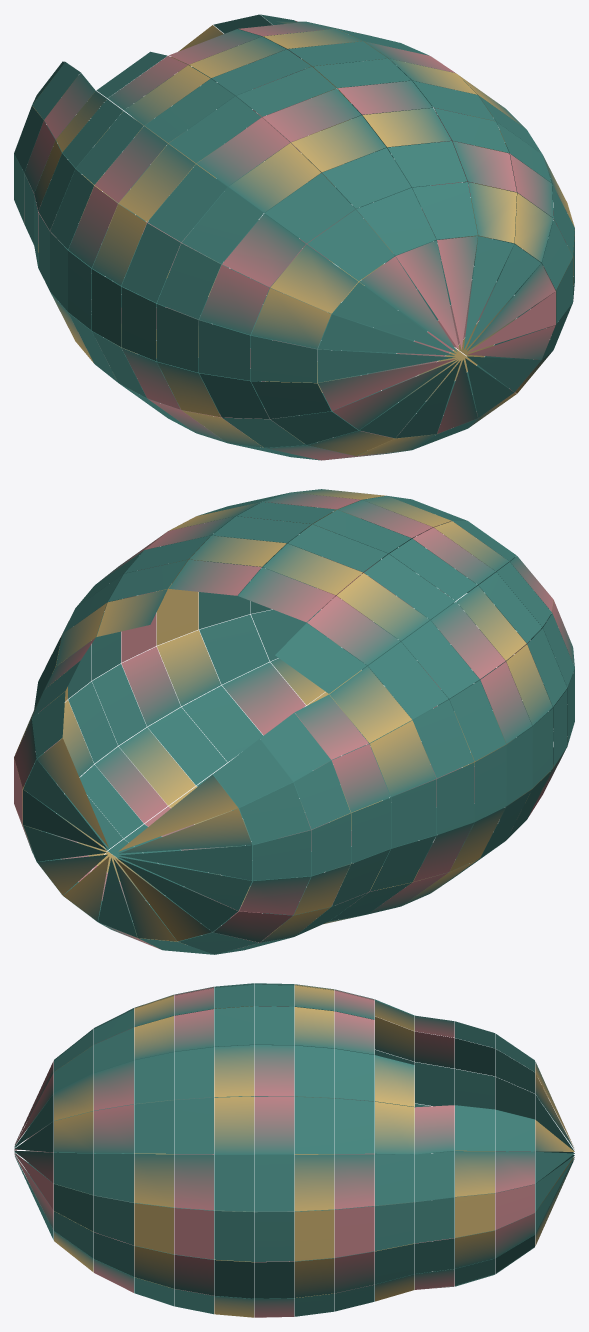
The model's file is wear_hawaii.glb.
3 views of the same model, one above another, from view 1: azimuth 30°, elevation 25°; view 2: azimuth 150°, elevation 25°; view 3: azimuth 270°, elevation 25° (orthographic). The views are drawn at different scales.
Visible parts, largest first — view 1: Item; view 2: Item; view 3: Item.
Boxes of the visible parts, x1=… form: Item: x1=14, y1=14, x2=574, y2=460; Item: x1=14, y1=489, x2=574, y2=954; Item: x1=14, y1=983, x2=574, y2=1317.
Bounding box in the file's own units: 0.6168 × 0.48 × 0.8444.
